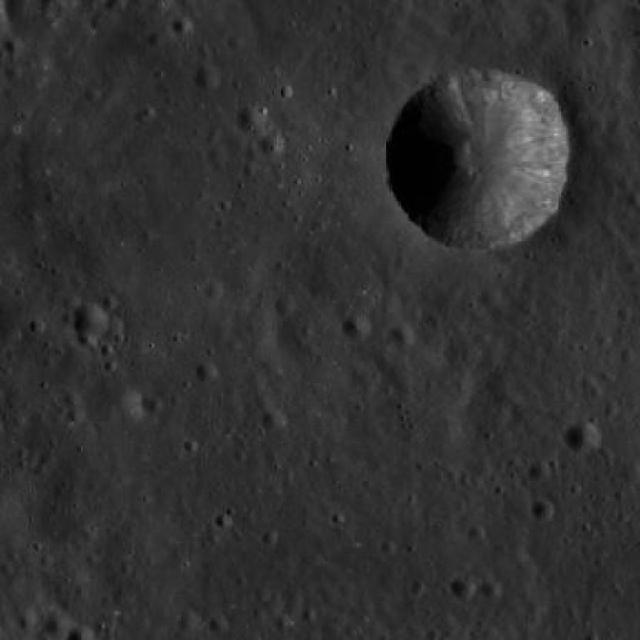crater: (388, 68, 574, 252), (68, 302, 105, 338), (568, 422, 602, 456), (236, 105, 270, 138), (40, 609, 72, 640), (2, 0, 36, 26), (340, 314, 369, 343), (351, 364, 380, 392), (256, 130, 284, 158), (384, 318, 412, 346), (90, 10, 115, 36), (193, 66, 218, 91), (260, 408, 286, 432), (474, 288, 498, 312), (450, 578, 475, 600), (108, 584, 130, 608), (194, 362, 217, 384), (530, 500, 552, 522), (476, 578, 498, 600), (274, 294, 296, 316), (171, 18, 192, 38), (528, 463, 548, 483), (202, 282, 222, 302), (177, 612, 197, 632), (206, 616, 226, 636), (1, 38, 21, 58), (261, 594, 281, 614), (15, 610, 34, 630), (146, 30, 165, 50), (204, 143, 224, 162), (26, 318, 45, 337), (142, 396, 161, 414), (63, 406, 82, 424), (212, 514, 231, 532), (144, 0, 168, 14), (102, 0, 124, 14), (618, 306, 636, 323), (3, 64, 20, 82), (249, 582, 266, 600), (76, 333, 93, 350), (270, 614, 287, 631), (133, 107, 150, 124), (466, 526, 483, 542), (99, 296, 116, 312), (61, 296, 78, 312), (243, 144, 260, 160), (61, 391, 77, 407), (36, 554, 52, 570), (227, 36, 242, 52), (591, 386, 607, 400), (406, 576, 420, 592)
